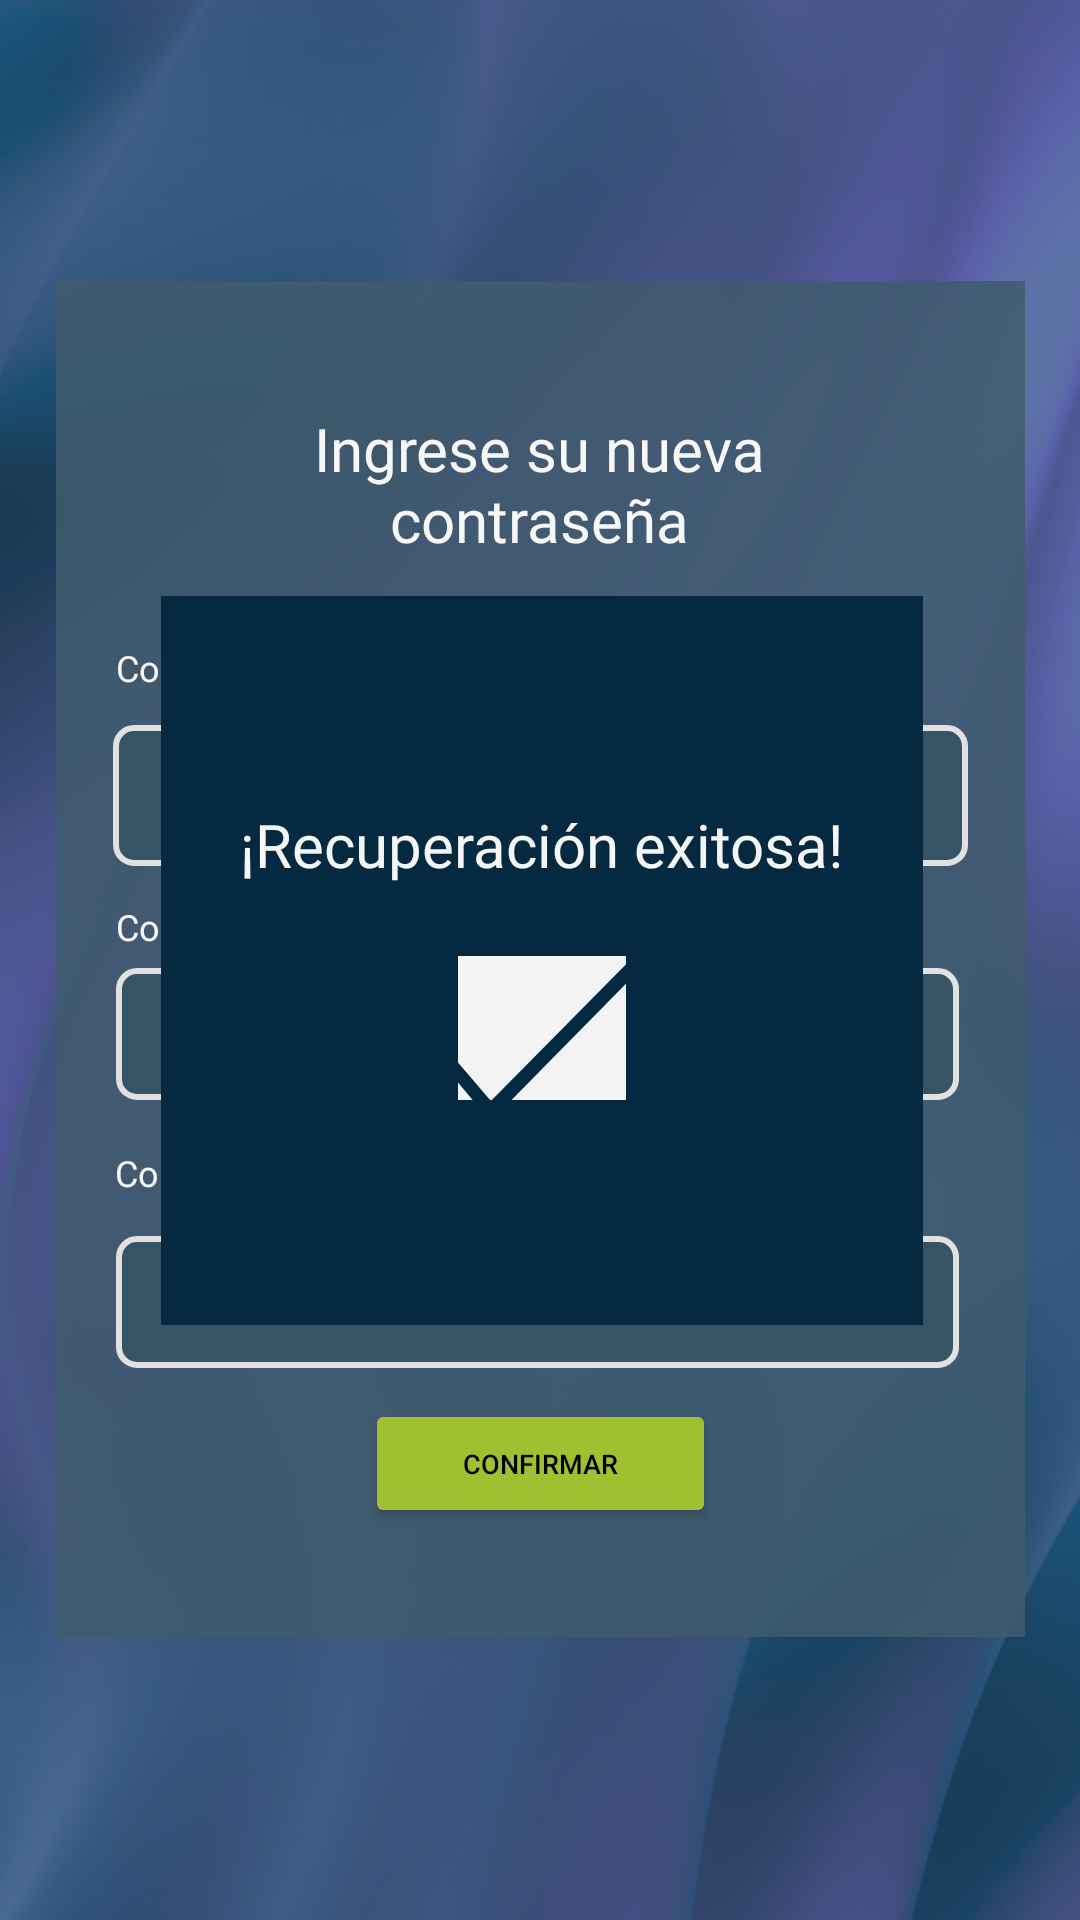

Named icons in this screenshot (1080x1920) and their centers, (x=x, y=y):
checkbox: (x=542, y=1028)
